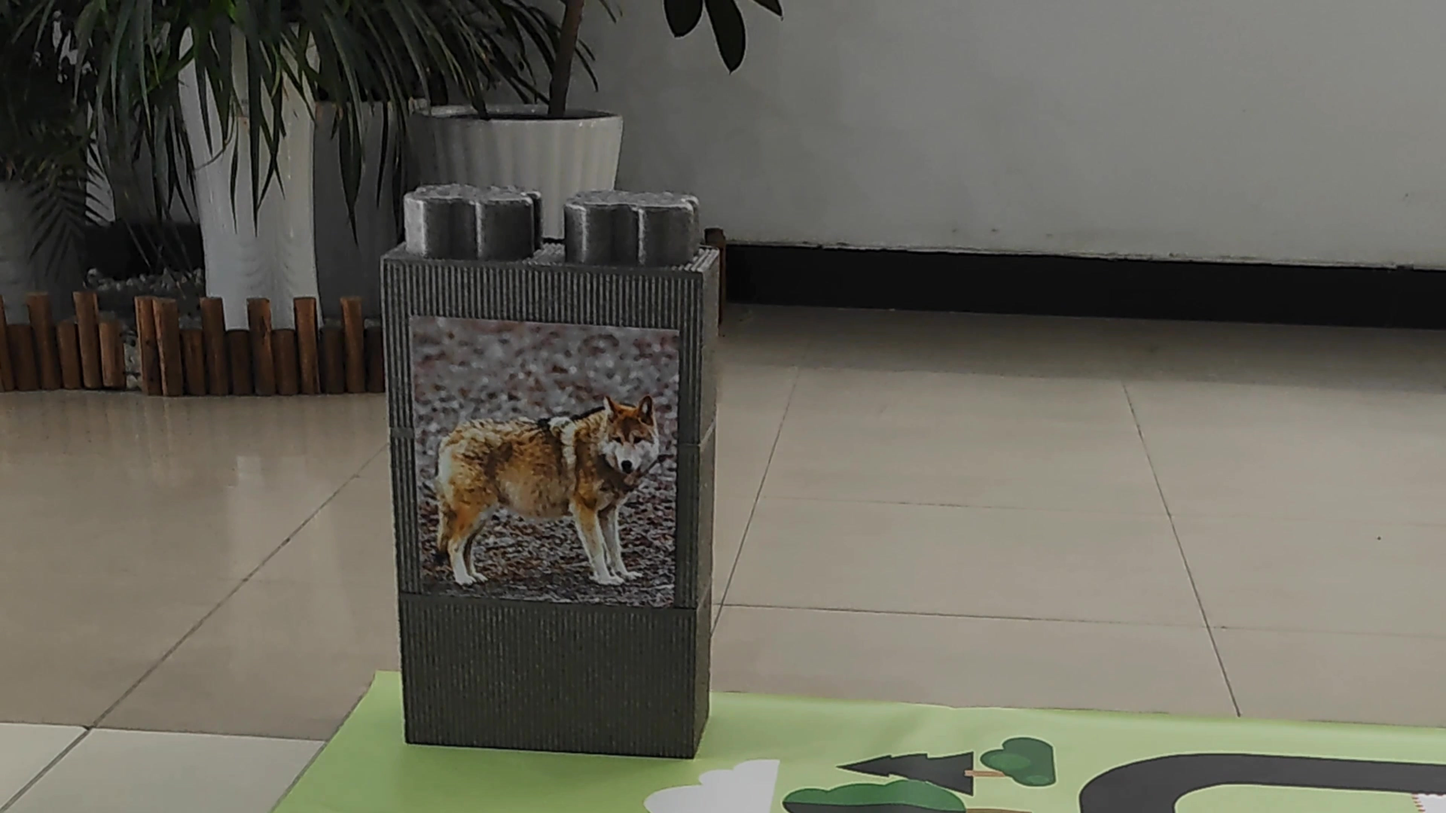wolf: (411, 326, 674, 588)
